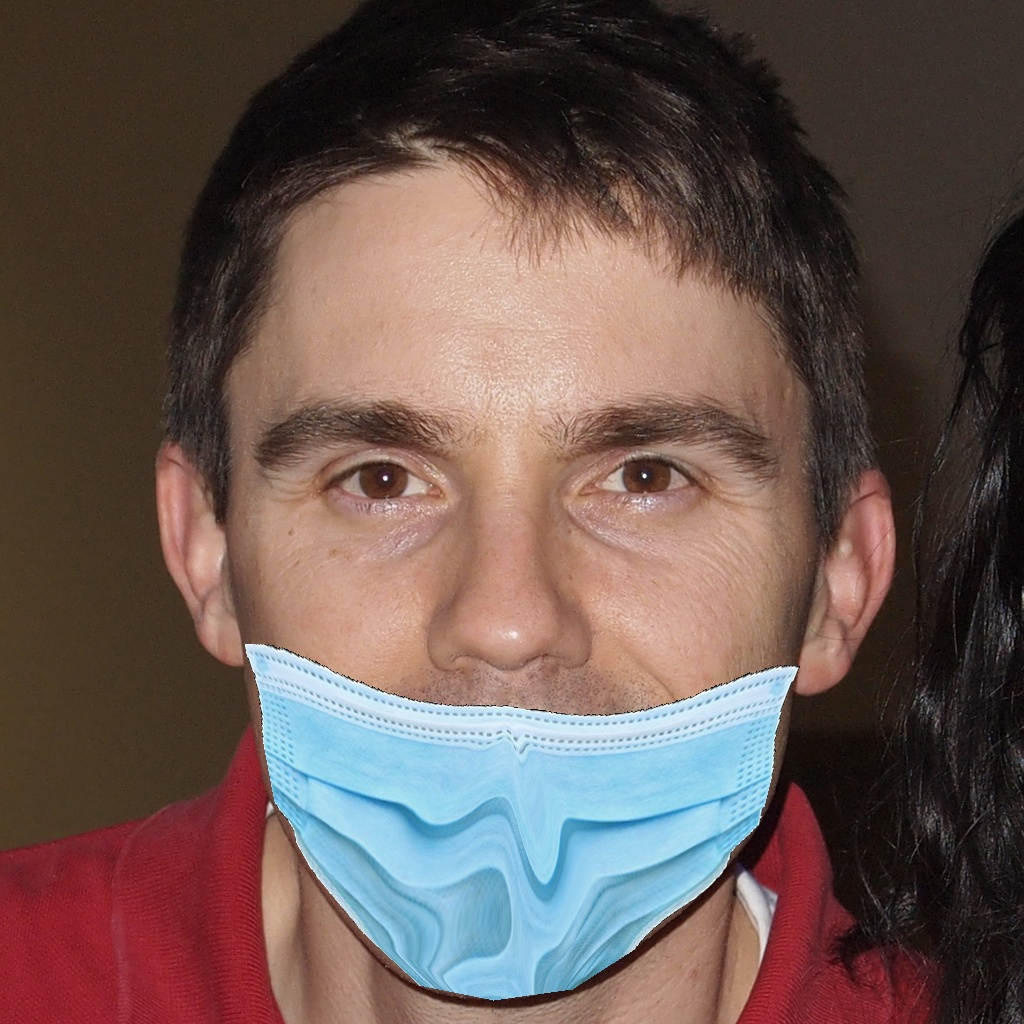mascarilla_mal_puesta: (197, 318, 872, 955)
